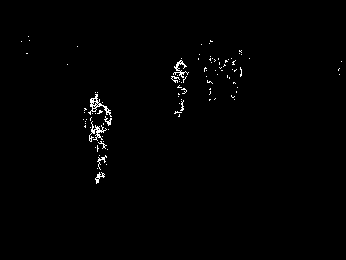person: (82, 91, 110, 184), (169, 59, 188, 116)
